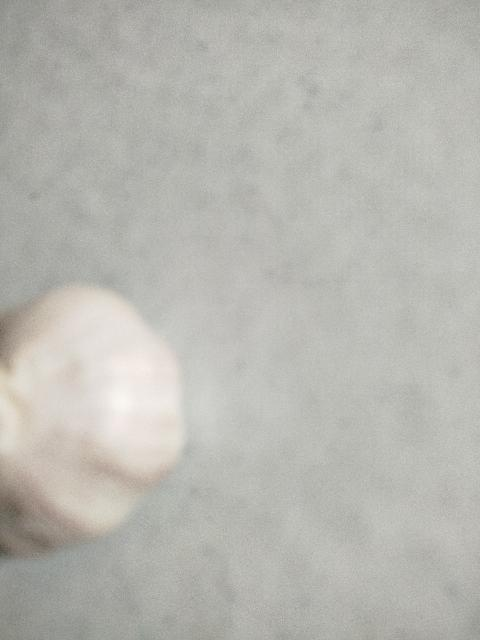garlic: (1, 282, 187, 556)
